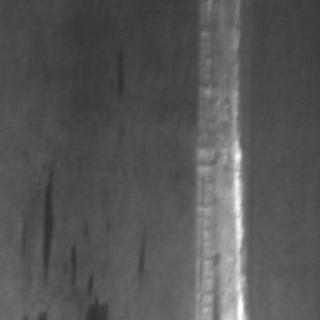inclusion: (66, 242, 110, 318), (34, 162, 58, 282), (109, 46, 129, 102), (132, 221, 150, 283)
scratches: (190, 0, 246, 316)
